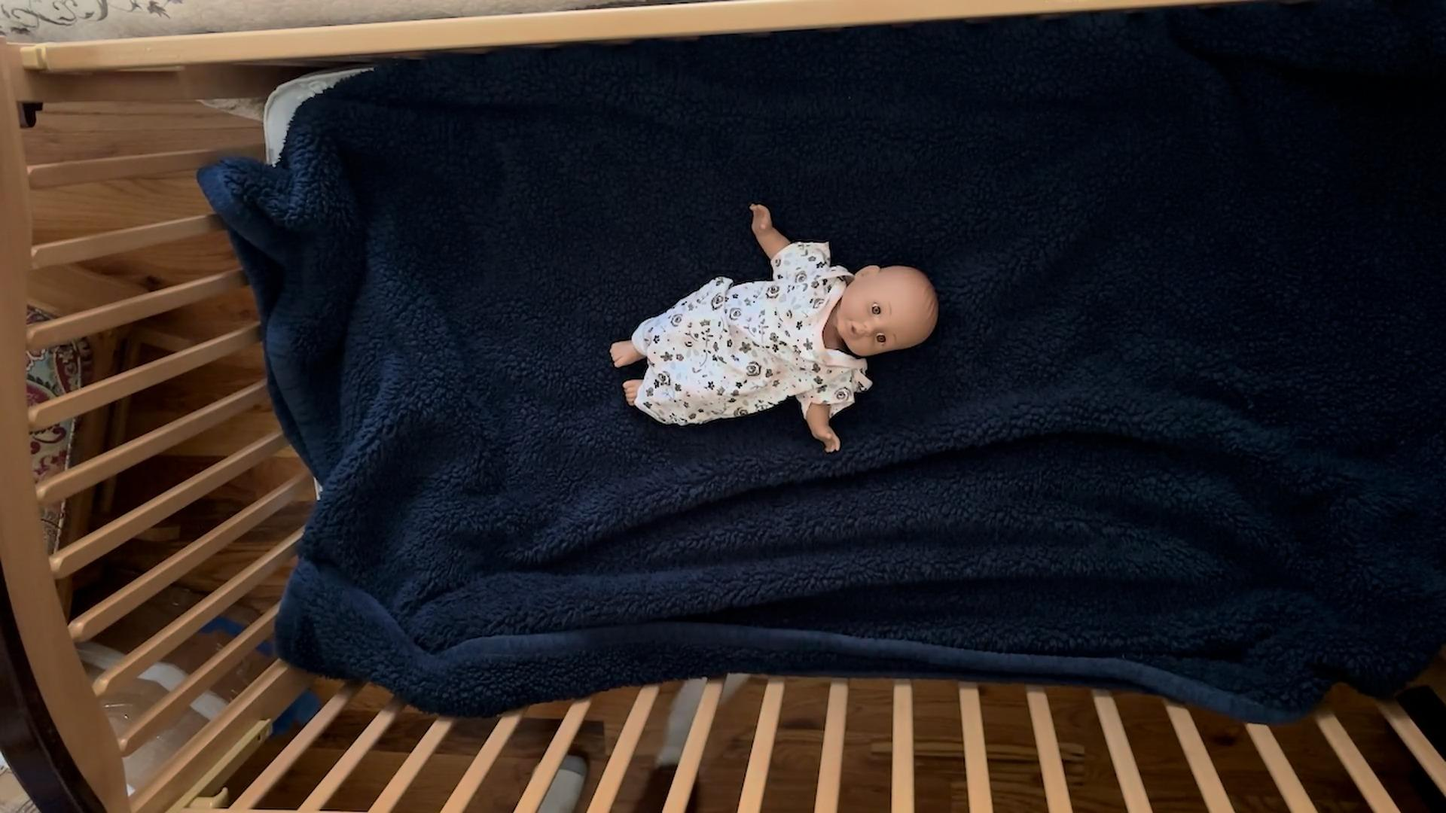baby: (603, 199, 946, 460)
